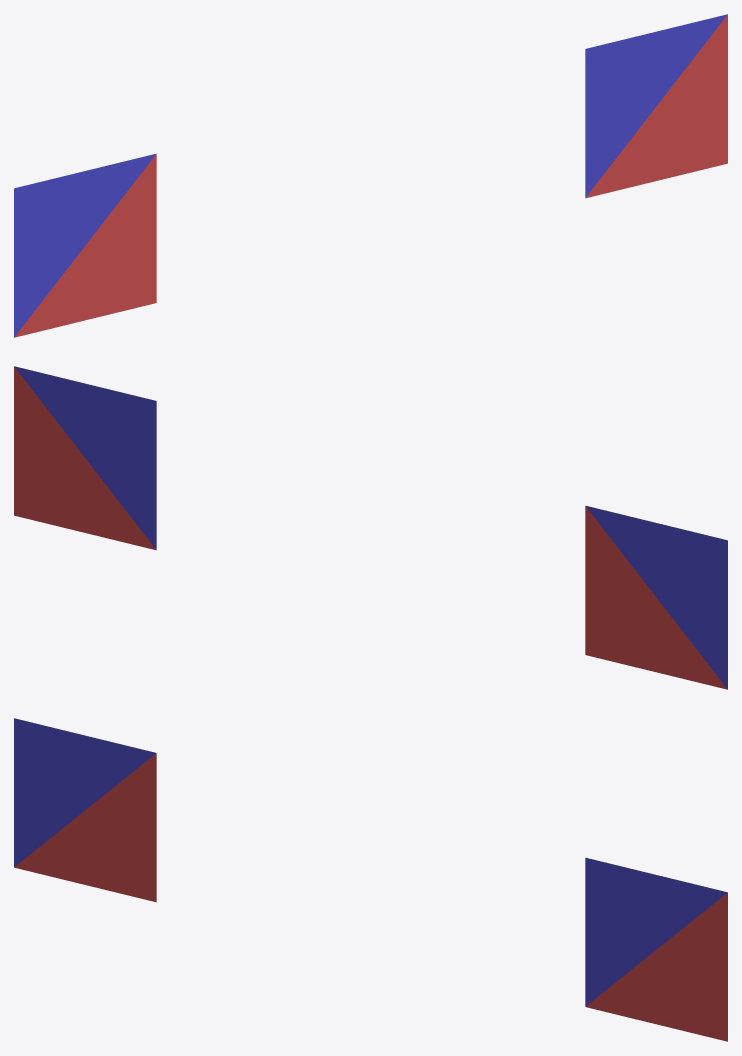
Rendered from equivalent.glb.
3 renders of one model, top to bottom at view 1: azimuth 30°, elevation 25°; view 2: azimuth 150°, elevation 25°; view 3: azimuth 330°, elevation 25°, orthographic.
Visible parts, largest first — view 1: Left, Right; view 2: Left, Right; view 3: Left, Right.
Boxes of the visible parts, x1,y1,x2,y2 form: Left: [14, 153, 156, 337]; Right: [585, 14, 727, 198]; Left: [585, 505, 727, 689]; Right: [14, 366, 156, 550]; Left: [14, 718, 156, 902]; Right: [585, 857, 727, 1041].
Size of the model in its own units: 5 by 1 by 0.
